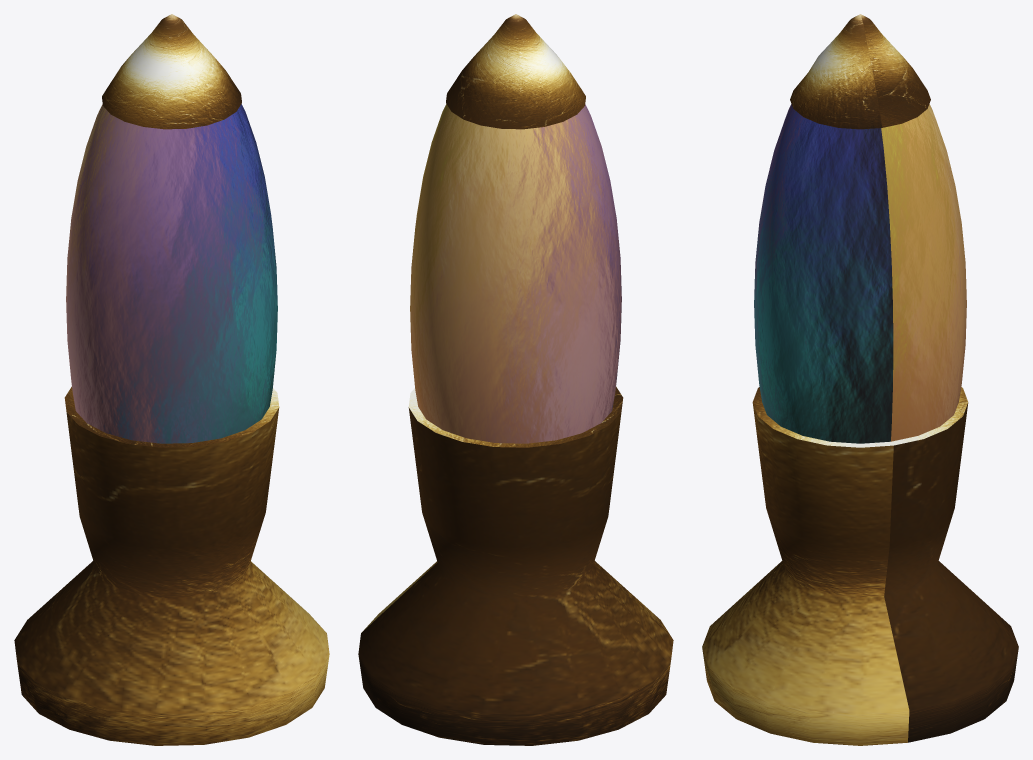
Rendered from Lava Lamp 2.fbx.
3 views of the same model, side by side, from view 1: azimuth 30°, elevation 25°; view 2: azimuth 150°, elevation 25°; view 3: azimuth 270°, elevation 25° (orthographic).
Visible parts, largest first — view 1: Lamp_Base, Globe, Lamp_top_cone; view 2: Lamp_Base, Globe, Lamp_top_cone; view 3: Lamp_Base, Globe, Lamp_top_cone.
Part boxes in pixels (box(x1,y1,x2,y2)): Lamp_Base: box(14, 386, 329, 745); Globe: box(66, 104, 277, 443); Lamp_top_cone: box(102, 14, 241, 129); Lamp_Base: box(358, 386, 673, 745); Globe: box(410, 104, 621, 443); Lamp_top_cone: box(446, 14, 585, 129); Lamp_Base: box(702, 387, 1018, 745); Globe: box(754, 104, 966, 443); Lamp_top_cone: box(790, 14, 930, 129).
Bounding box in the file's own units: 5.25 × 12.19 × 5.25.
Materials: 2 (2 with a texture image).
